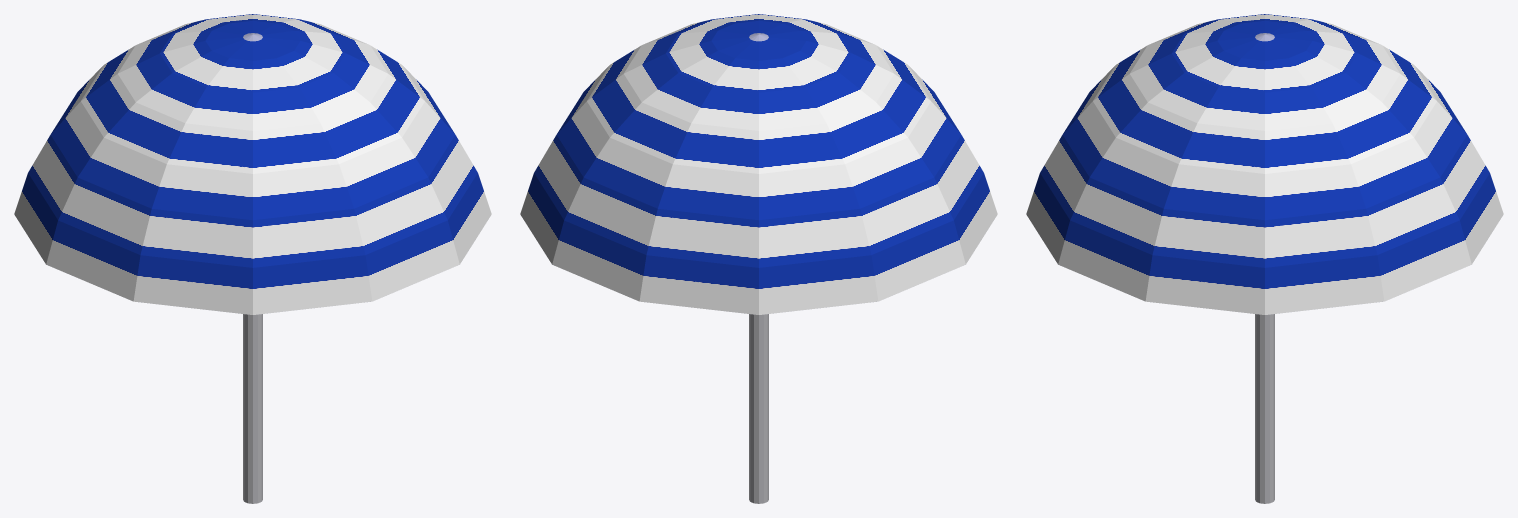
Rendered from Sombrilla.obj.
3 views of the same model, side by side, from view 1: azimuth 30°, elevation 25°; view 2: azimuth 150°, elevation 25°; view 3: azimuth 270°, elevation 25° (orthographic).
Visible parts, largest first — view 1: Sphere; view 2: Sphere; view 3: Sphere.
Boxes of the visible parts, left/top/right/bottom form: Sphere: left=14, top=14, right=491, bottom=503; Sphere: left=520, top=14, right=997, bottom=503; Sphere: left=1026, top=14, right=1503, bottom=503.
Size of the model in its own units: 3.41 by 3.67 by 3.41.
Materials: 2 (1 with a texture image).
